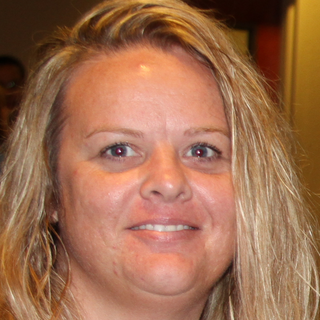eye: (179, 139, 226, 165), (95, 139, 142, 164)
